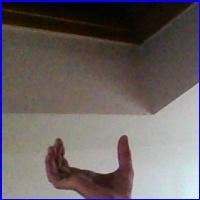space: (36, 132, 147, 198)
